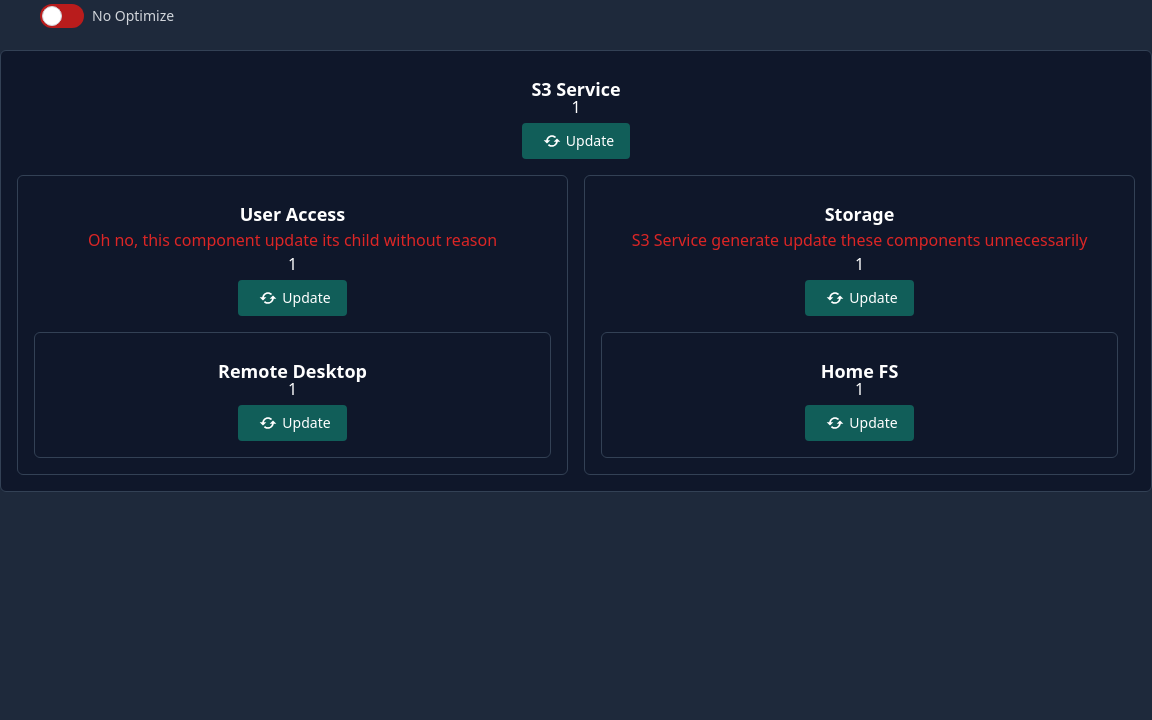
S3Service Component tests › Show in child's the optimization when optimizeContextValue is true
The width and height of the screenshot is (1152, 720).
Click the checkbox.
click(107, 16)  # box [40, 4, 174, 28]
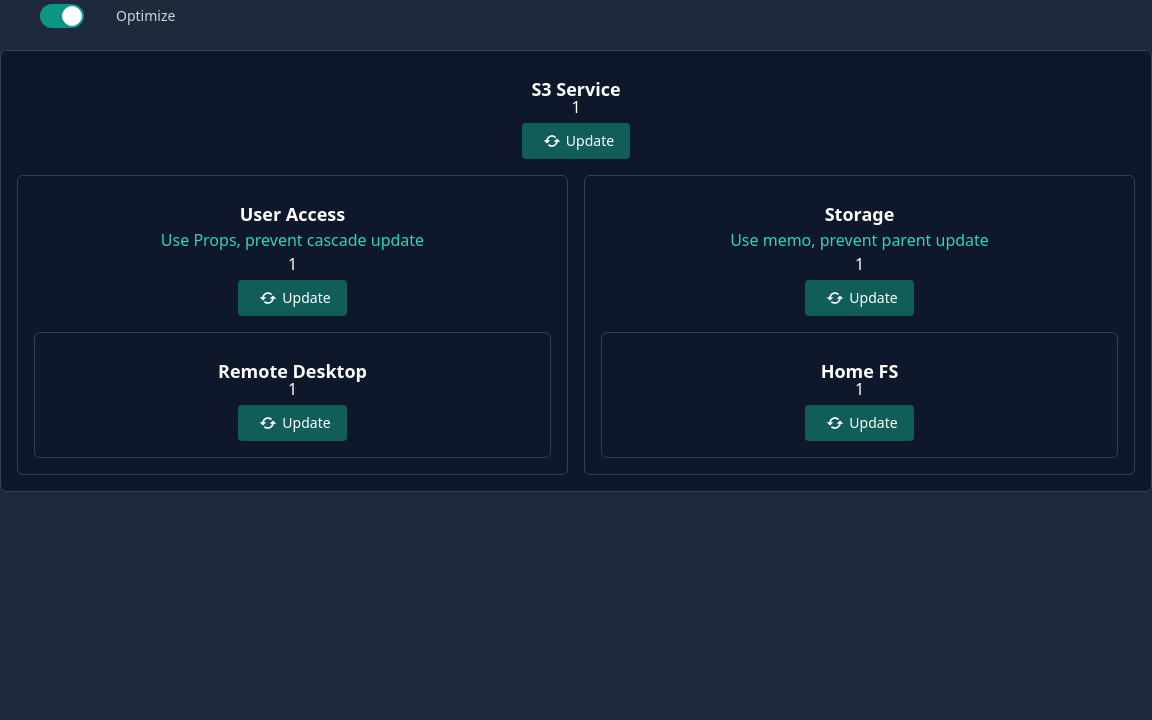
Expected: the heading "Use Props, prevent cascade update" is shown, [161, 229, 424, 251]
Expected: the heading "Use memo, prevent parent update" is shown, [730, 229, 989, 251]
